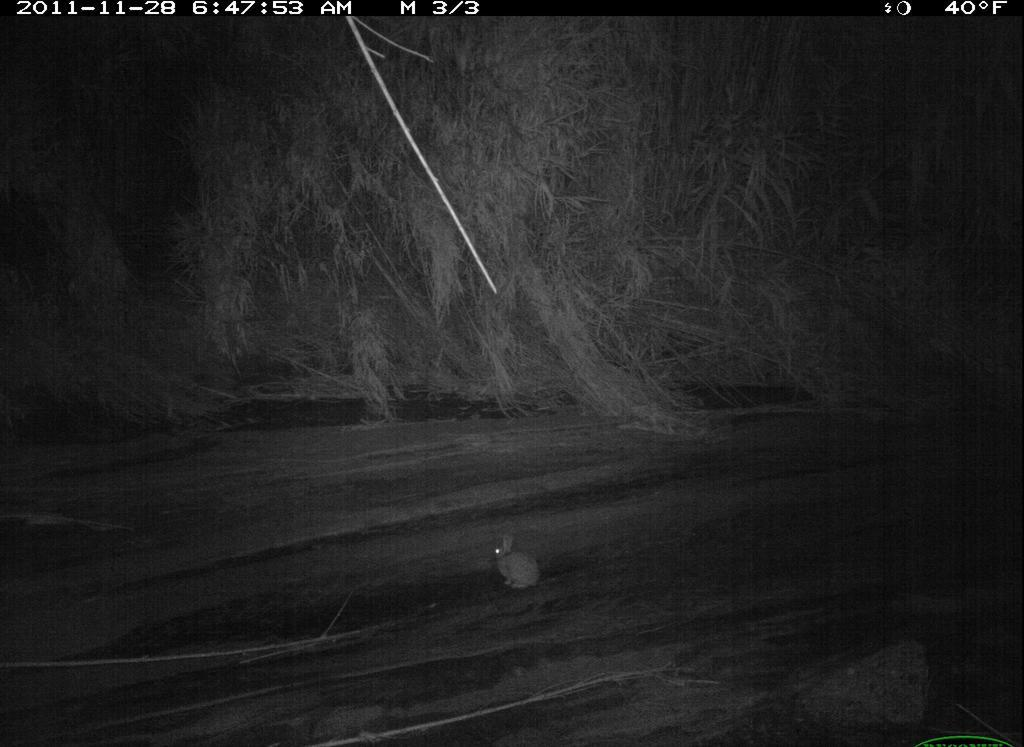rabbit: (483, 529, 552, 598)
